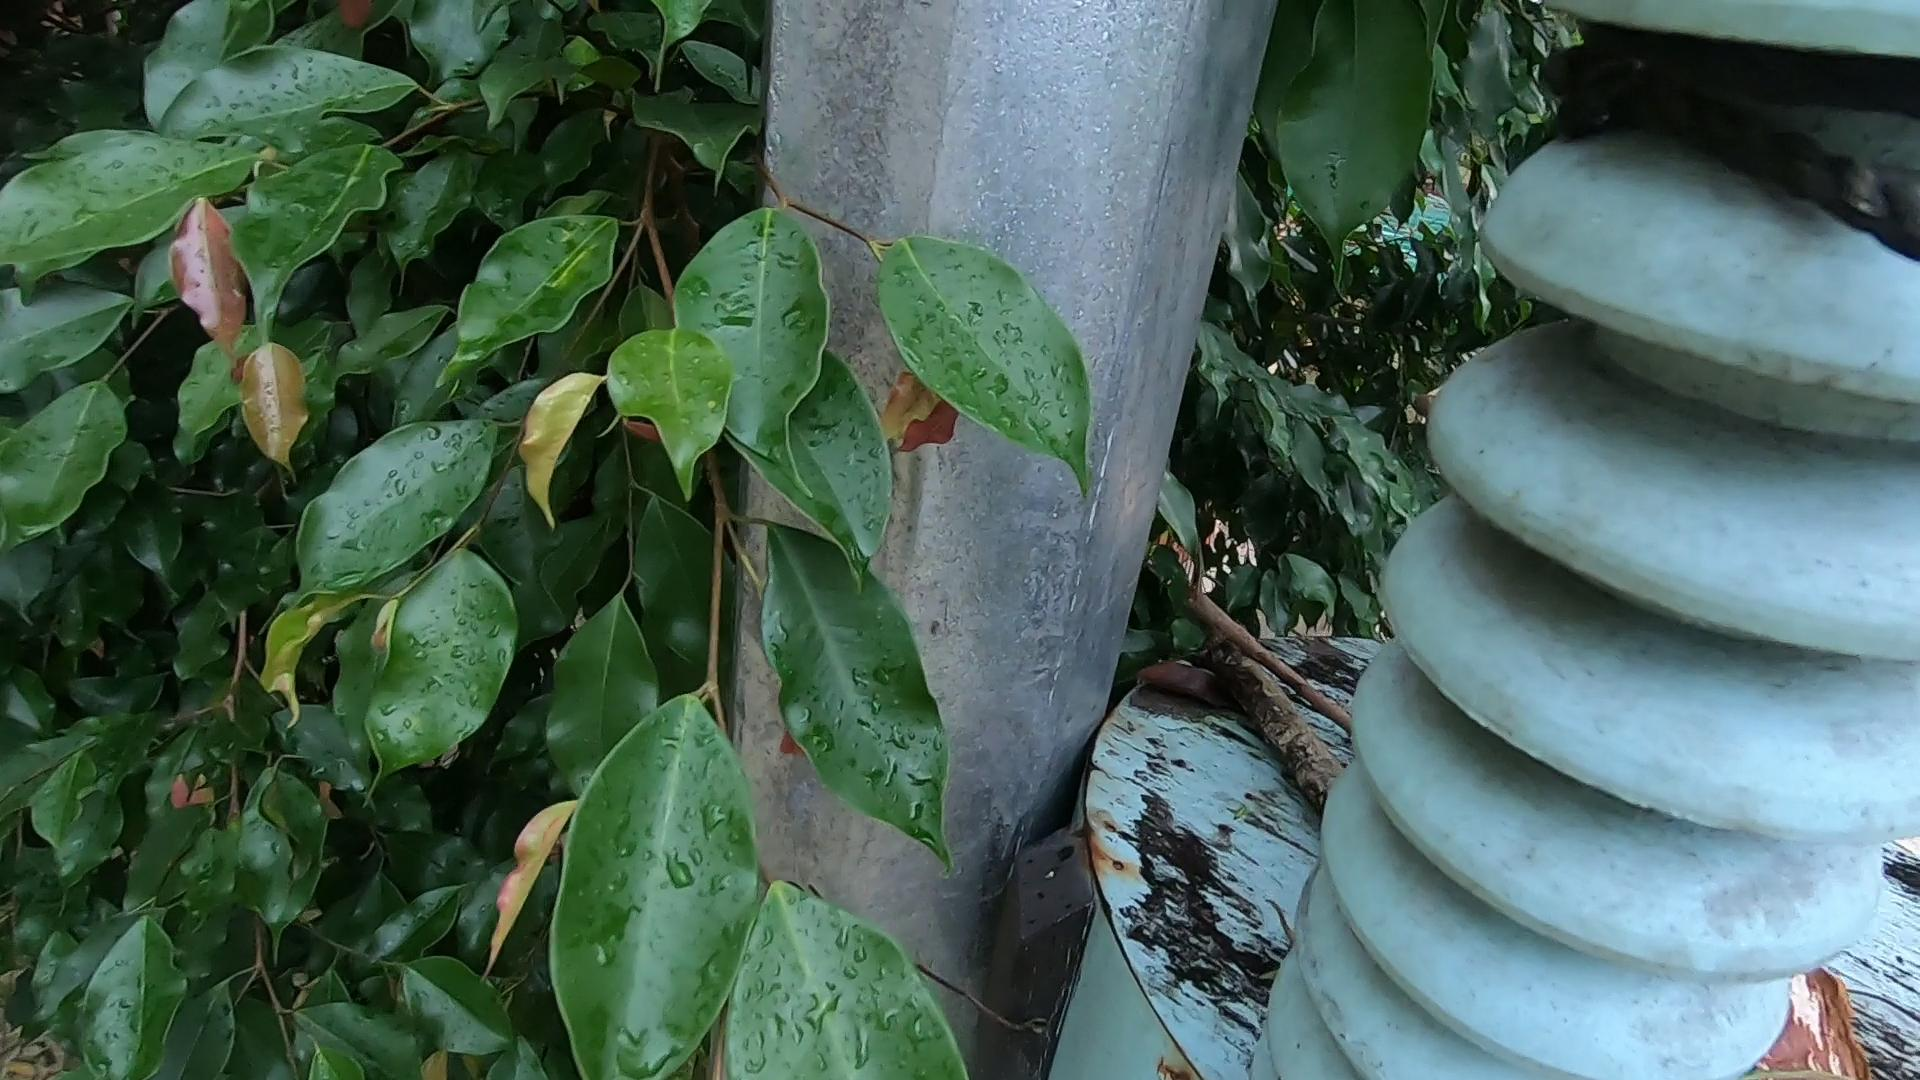branch with leaves: (1162, 630, 1441, 858)
mahogany fruit: (1720, 898, 1895, 1063)
tree branch: (1207, 571, 1338, 732)
